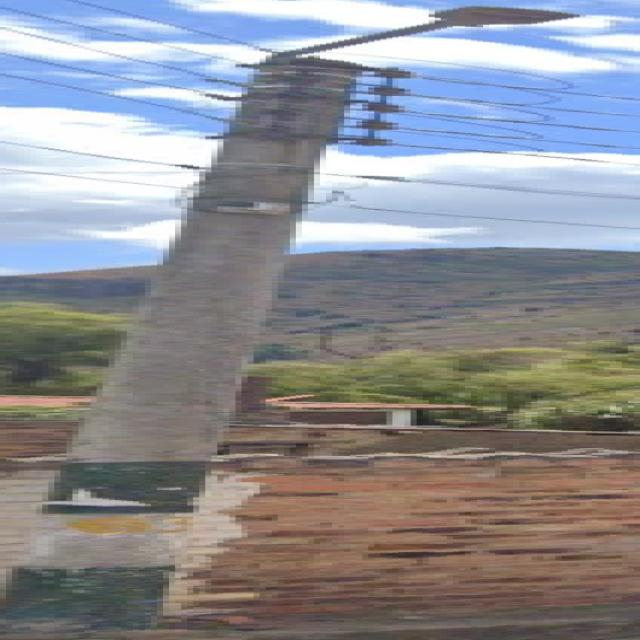Poste: (12, 7, 568, 631)
